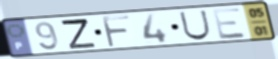4: (140, 12, 172, 45)
9: (33, 21, 60, 51)
E: (210, 6, 250, 41)
F: (99, 14, 133, 49)
U: (178, 9, 213, 42)
Z: (58, 18, 98, 50)
